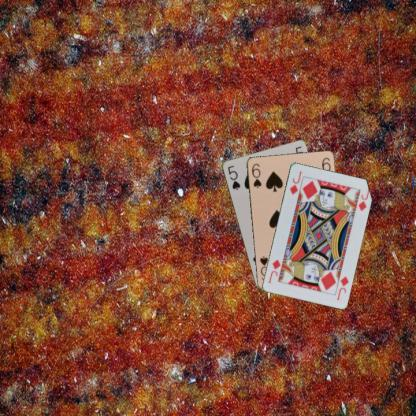5s: (224, 163, 242, 191)
6s: (249, 161, 262, 189)
Jd: (286, 168, 302, 196), (334, 273, 350, 301)
